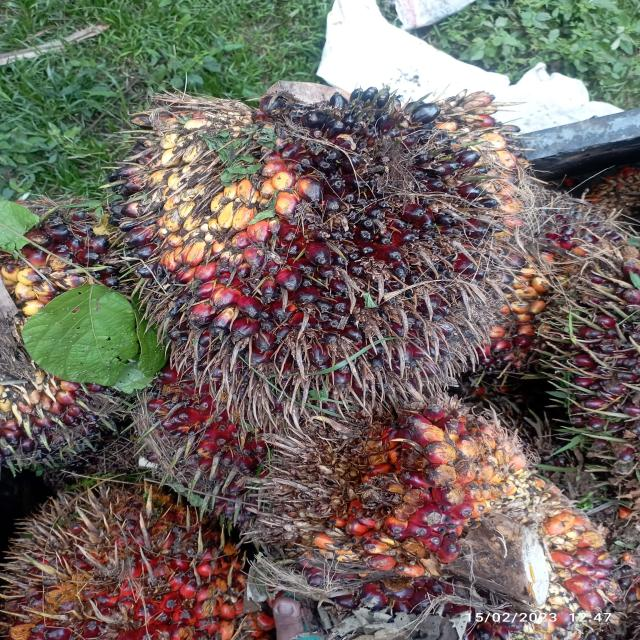fraksi 1: (100, 78, 540, 447)
fraksi 3: (264, 378, 512, 580), (4, 472, 288, 640)
